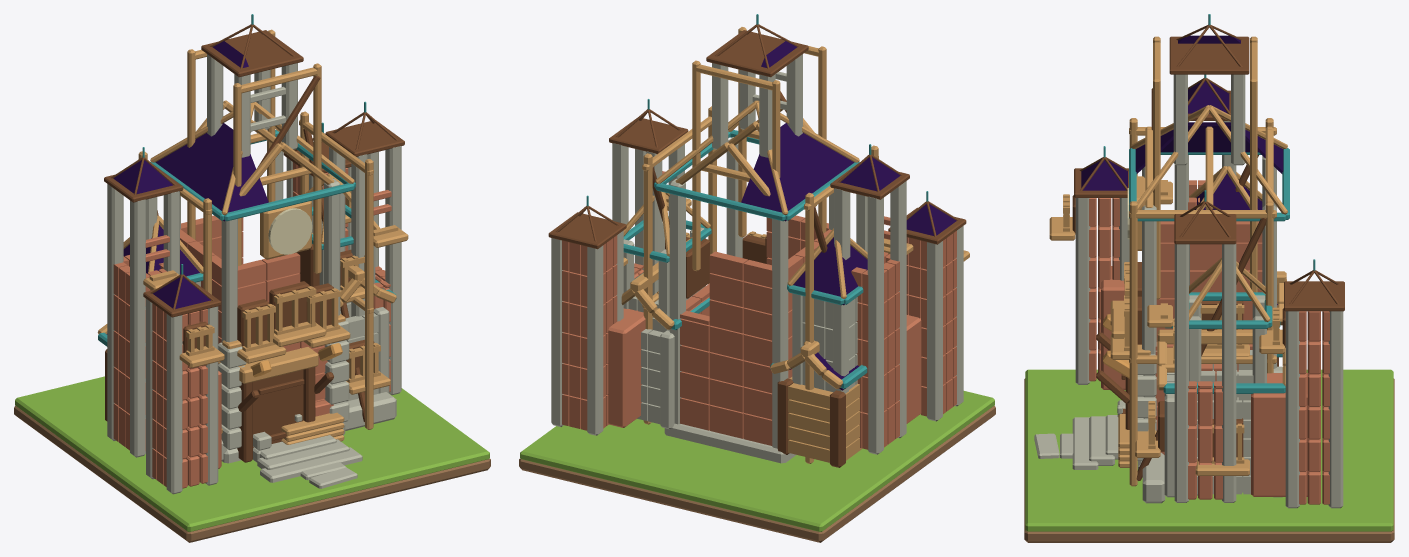
The model's file is town_hall_l14_construction_LOD0.glb.
3 renders of one model, left to right at view 1: azimuth 30°, elevation 25°; view 2: azimuth 150°, elevation 25°; view 3: azimuth 270°, elevation 25°, orthographic. The views are drawn at different scales.
Parts seen in each view (by area): view 1: town_hall_l14_construction_grass_tile, town_hall_l14_construction_earth_tile, town_hall_l14_construction_corner_reinforcement.024, town_hall_l14_construction_corner_reinforcement.030, town_hall_l14_construction_corner_reinforcement.036, town_hall_l14_construction_corner_reinforcement.025, town_hall_l14_construction_door_recess, town_hall_l14_construction_scaffold_post.002, town_hall_l14_construction_central_spire_cornice, town_hall_l14_construction_hip_roof_shingle.011, town_hall_l14_construction_corner_reinforcement, town_hall_l14_construction_corner_reinforcement.038 (+43 smaller); view 2: town_hall_l14_construction_grass_tile, town_hall_l14_construction_earth_tile, town_hall_l14_construction_corner_reinforcement.025, town_hall_l14_construction_vertical_corner_connector, town_hall_l14_construction_corner_reinforcement.033, town_hall_l14_construction_corner_reinforcement.001, town_hall_l14_construction_corner_reinforcement.037, town_hall_l14_construction_corner_reinforcement.003, town_hall_l14_construction_corner_reinforcement.024, town_hall_l14_construction_central_spire_cornice, town_hall_l14_construction_hip_roof_shingle.011, town_hall_l14_construction_corner_reinforcement.035 (+65 smaller); view 3: town_hall_l14_construction_grass_tile, town_hall_l14_construction_earth_tile, town_hall_l14_construction_vertical_corner_connector, town_hall_l14_construction_corner_reinforcement.030, town_hall_l14_construction_corner_reinforcement.031, town_hall_l14_construction_corner_reinforcement.035, town_hall_l14_construction_corner_reinforcement.034, town_hall_l14_construction_corner_reinforcement.038, town_hall_l14_construction_central_spire_cornice, town_hall_l14_construction_scaffold_post.002, town_hall_l14_construction_corner_reinforcement.002, town_hall_l14_construction_right_spire_cornice (+50 smaller).
Boxes of the visible parts, x1=… form: town_hall_l14_construction_grass_tile: x1=15, y1=376, x2=489, y2=531; town_hall_l14_construction_earth_tile: x1=14, y1=405, x2=490, y2=542; town_hall_l14_construction_corner_reinforcement.024: x1=130, y1=199, x2=145, y2=457; town_hall_l14_construction_corner_reinforcement.030: x1=385, y1=146, x2=401, y2=395; town_hall_l14_construction_corner_reinforcement.036: x1=166, y1=314, x2=182, y2=494; town_hall_l14_construction_corner_reinforcement.025: x1=107, y1=184, x2=123, y2=440; town_hall_l14_construction_door_recess: x1=253, y1=369, x2=303, y2=447; town_hall_l14_construction_scaffold_post.002: x1=365, y1=159, x2=373, y2=429; town_hall_l14_construction_central_spire_cornice: x1=201, y1=30, x2=303, y2=77; town_hall_l14_construction_hip_roof_shingle.011: x1=155, y1=145, x2=230, y2=220; town_hall_l14_construction_corner_reinforcement: x1=221, y1=218, x2=237, y2=342; town_hall_l14_construction_corner_reinforcement.038: x1=205, y1=306, x2=218, y2=485; town_hall_l14_construction_grass_tile: x1=520, y1=391, x2=994, y2=531; town_hall_l14_construction_earth_tile: x1=519, y1=405, x2=995, y2=542; town_hall_l14_construction_corner_reinforcement.025: x1=867, y1=196, x2=883, y2=454; town_hall_l14_construction_vertical_corner_connector: x1=607, y1=308, x2=645, y2=427; town_hall_l14_construction_corner_reinforcement.033: x1=587, y1=245, x2=603, y2=435; town_hall_l14_construction_corner_reinforcement.001: x1=772, y1=218, x2=788, y2=448; town_hall_l14_construction_corner_reinforcement.037: x1=926, y1=241, x2=942, y2=421; town_hall_l14_construction_corner_reinforcement.003: x1=669, y1=178, x2=685, y2=424; town_hall_l14_construction_corner_reinforcement.024: x1=890, y1=181, x2=906, y2=438; town_hall_l14_construction_central_spire_cornice: x1=706, y1=30, x2=808, y2=77; town_hall_l14_construction_hip_roof_shingle.011: x1=779, y1=145, x2=854, y2=220; town_hall_l14_construction_corner_reinforcement.035: x1=551, y1=238, x2=563, y2=426; town_hall_l14_construction_grass_tile: x1=1025, y1=369, x2=1393, y2=531; town_hall_l14_construction_earth_tile: x1=1024, y1=378, x2=1394, y2=542; town_hall_l14_construction_vertical_corner_connector: x1=1251, y1=373, x2=1307, y2=496; town_hall_l14_construction_corner_reinforcement.030: x1=1174, y1=244, x2=1188, y2=502; town_hall_l14_construction_corner_reinforcement.031: x1=1222, y1=244, x2=1236, y2=502; town_hall_l14_construction_corner_reinforcement.035: x1=1328, y1=311, x2=1343, y2=508; town_hall_l14_construction_corner_reinforcement.034: x1=1285, y1=311, x2=1299, y2=508; town_hall_l14_construction_corner_reinforcement.038: x1=1075, y1=198, x2=1090, y2=384; town_hall_l14_construction_central_spire_cornice: x1=1169, y1=36, x2=1249, y2=74; town_hall_l14_construction_scaffold_post.002: x1=1129, y1=201, x2=1137, y2=486; town_hall_l14_construction_corner_reinforcement.002: x1=1142, y1=205, x2=1156, y2=461; town_hall_l14_construction_right_spire_cornice: x1=1174, y1=214, x2=1236, y2=244.
Size of the model in its own units: 3.6 by 4.85 by 3.6.
